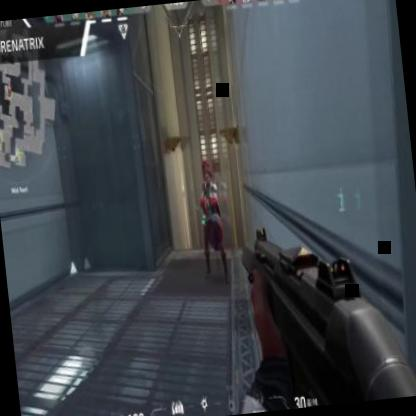enemy: (194, 160, 232, 283)
enemy_head: (202, 164, 213, 185)
